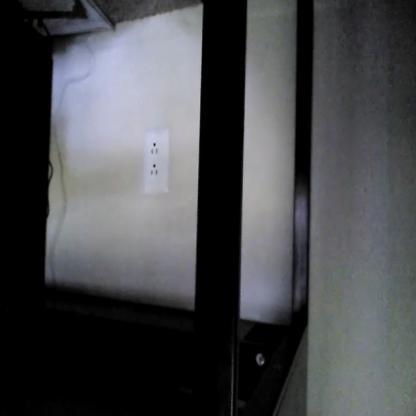OUTLET: (143, 129, 168, 194)
